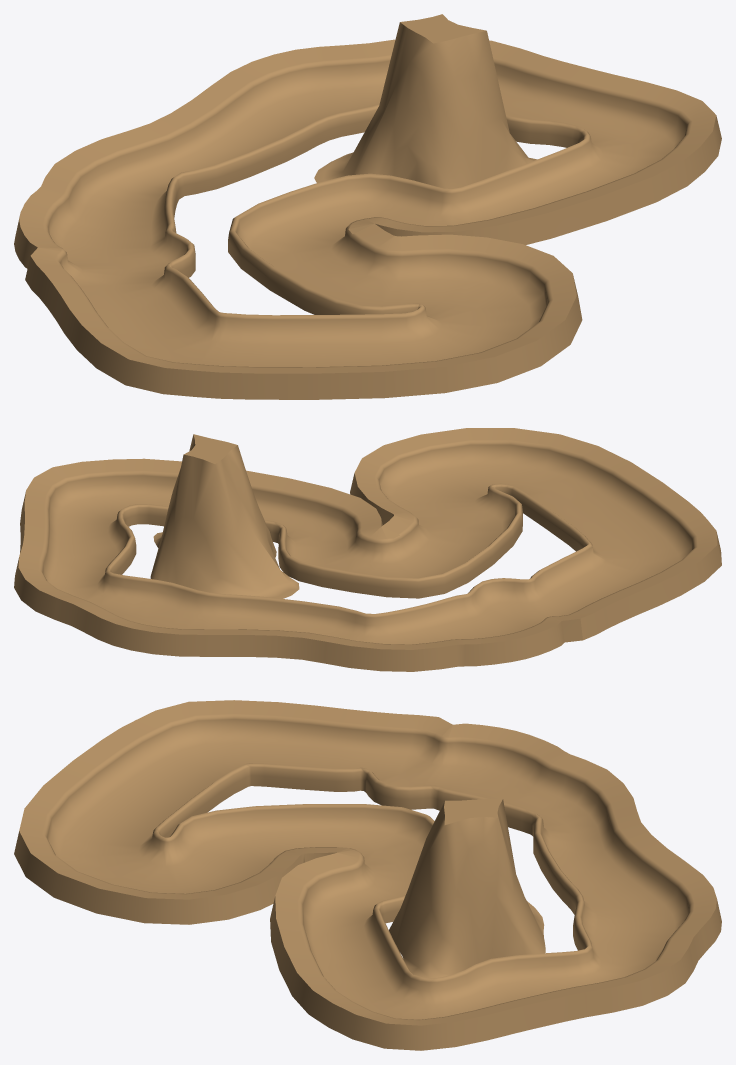
The model's file is pista_prueba1.5.fbx.
The picture shows the model from 3 angles, top to bottom: view 1: azimuth 30°, elevation 25°; view 2: azimuth 150°, elevation 25°; view 3: azimuth 270°, elevation 25°; orthographic projection. The views are drawn at different scales.
Visible parts, largest first — view 1: pista_prueba_1_5; view 2: pista_prueba_1_5; view 3: pista_prueba_1_5.
Part boxes in pixels (x1,y1,x2,y2): pista_prueba_1_5: [14, 14, 721, 399]; pista_prueba_1_5: [14, 428, 721, 671]; pista_prueba_1_5: [14, 700, 721, 1050].
Size of the model in its own units: 52708 by 9946 by 47758.
